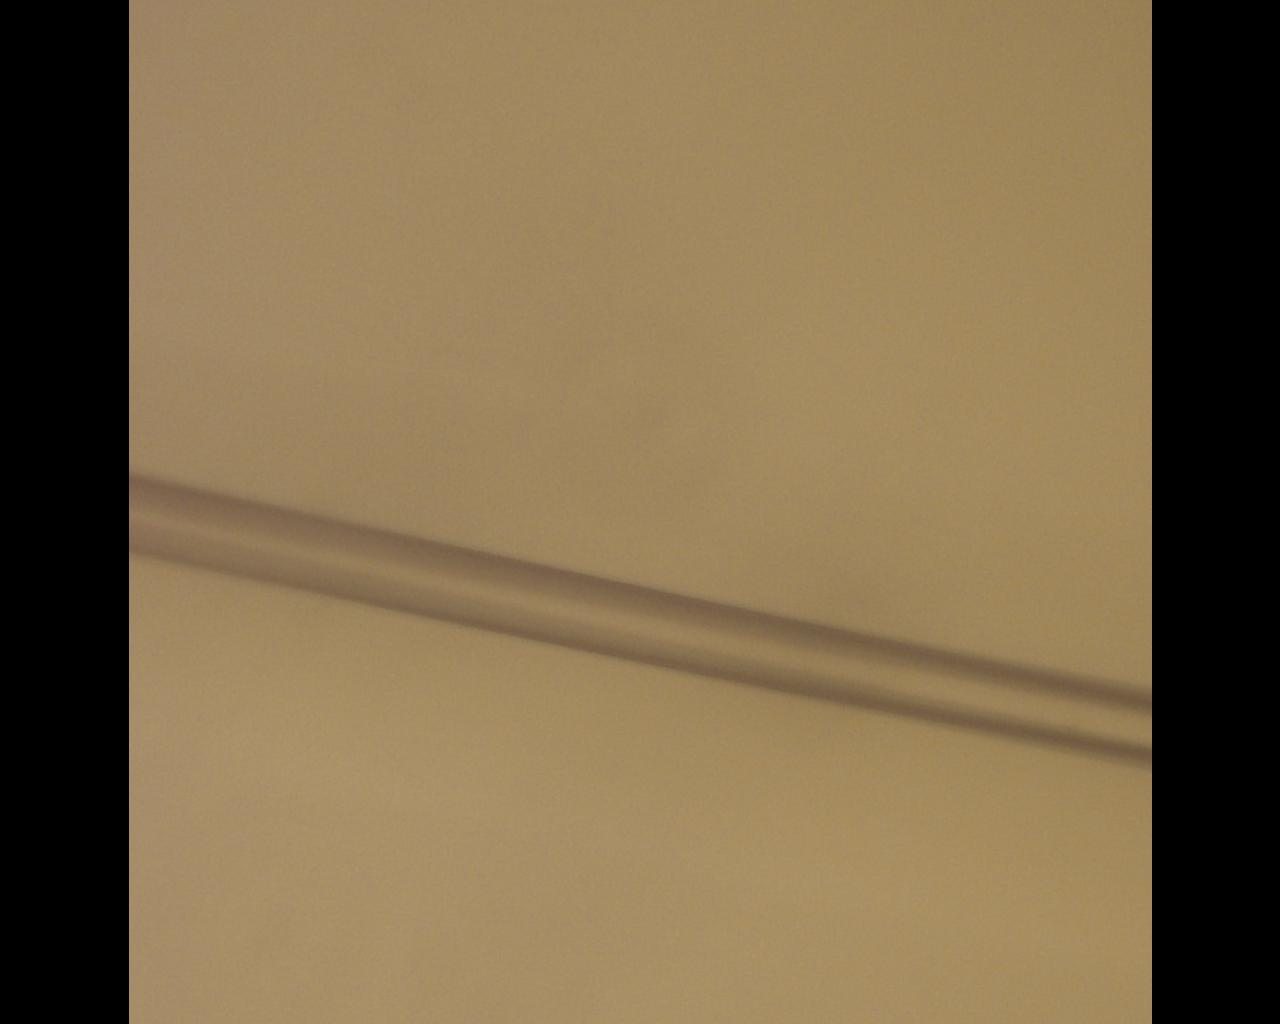fiber: (0, 287, 843, 582), (31, 897, 896, 1024), (896, 0, 1280, 260)
